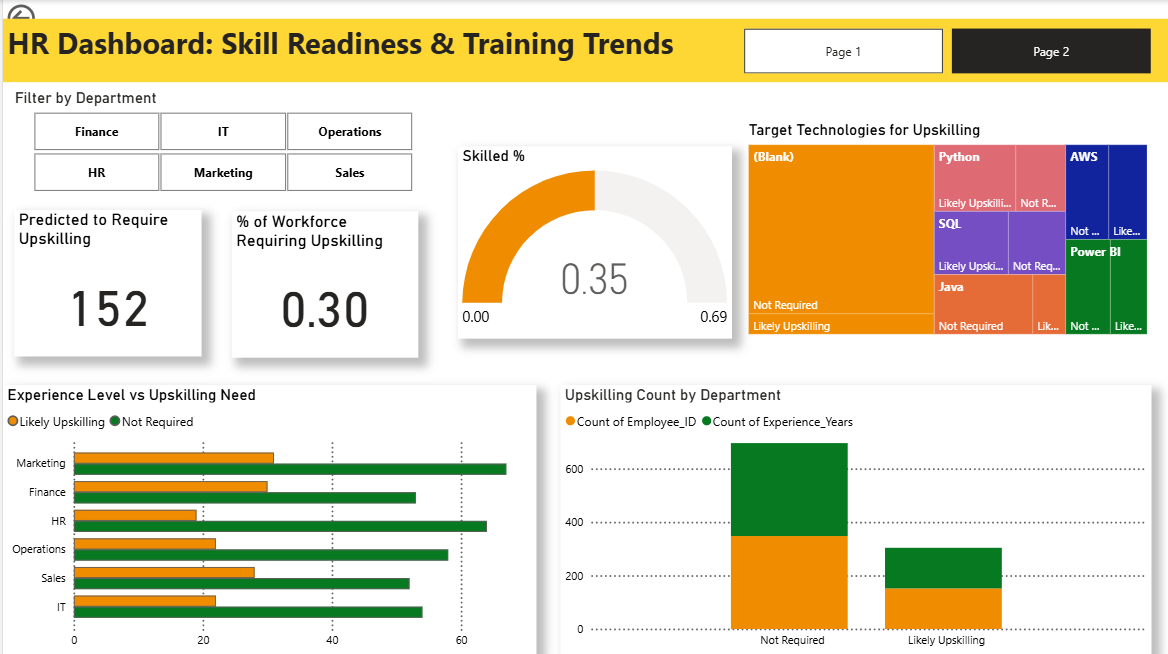

The page's visual inventory and layout, read from the dashboard file:
{"tool":"powerbi","page":{"name":"Page 2","canvas":[1280,720],"ordinal":1},"visuals":[{"type":"card","title":"Predicted to Require Upskilling","fields":{"Values":["Sheet1.Likely Upskilling Count"]},"box":[12.3,230.5,205.8,160.5],"z":0},{"type":"card","title":"% of Workforce Requiring Upskilling","fields":{"Values":["Sheet1.Upskilling %"]},"box":[251.1,231.9,204.5,160.5],"z":1},{"type":"clusteredBarChart","title":"Experience Level vs Upskilling Need","fields":{"Category":["Sheet1 (2).Department"],"Y":["CountNonNull(Sheet1 (2).Employee_ID)"],"Series":["Sheet1 (2).Prediction_Label"]},"box":[0,422.6,585.9,297.8],"z":2},{"type":"treemap","title":"Target Technologies for Upskilling","fields":{"Group":["Sheet1 (2).Target_Technology"],"Values":["CountNonNull(Sheet1 (2).Prediction_Label)"],"Details":["Sheet1 (2).Prediction_Label"]},"box":[813.7,131.7,447.3,240.1],"z":3},{"type":"actionButton","box":[0,0,100,40],"z":4},{"type":"columnChart","title":"Upskilling Count by Department","fields":{"Y":["CountNonNull(Sheet1 (2).Employee_ID)","CountNonNull(Sheet1 (2).Experience_Years)"],"Category":["Sheet1 (2).Prediction_Label"]},"box":[612,422.6,649.1,297.8],"z":5},{"type":"gauge","fields":{"Y":["Sheet1.Skilled %"]},"box":[499.5,160.5,300.5,211.3],"z":6},{"type":"textbox","box":[0,20.6,1280.3,70],"z":7},{"type":"pageNavigator","box":[813.7,31.6,447.3,49.4],"z":8},{"type":"slicer","title":"Filter by Department","fields":{"Values":["Sheet1.Department"]},"box":[8.2,97.4,465.2,119.4],"z":9}]}

Visuals, with their boxes in screenshot pixels (x1, y1, x2, y2), scaled from the page's 1280x720 canvas onto the 1168x654 screenshot:
"Predicted to Require Upskilling" card: BBox(11, 209, 199, 355)
"% of Workforce Requiring Upskilling" card: BBox(229, 211, 416, 356)
"Experience Level vs Upskilling Need" clusteredBarChart: BBox(0, 384, 535, 653)
"Target Technologies for Upskilling" treemap: BBox(743, 120, 1151, 338)
actionButton: BBox(0, 0, 91, 36)
"Upskilling Count by Department" columnChart: BBox(558, 384, 1151, 653)
gauge - Sheet1.Skilled %: BBox(456, 146, 730, 338)
textbox: BBox(0, 19, 1167, 82)
pageNavigator: BBox(743, 29, 1151, 74)
"Filter by Department" slicer: BBox(7, 88, 432, 197)
